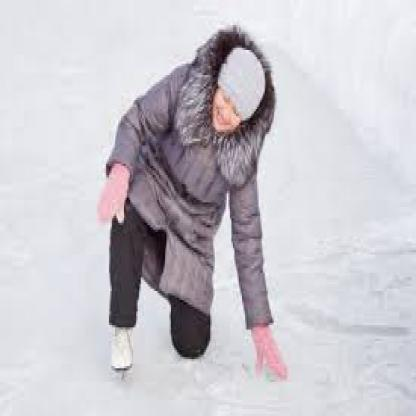Fall_Down: (92, 33, 288, 385)
